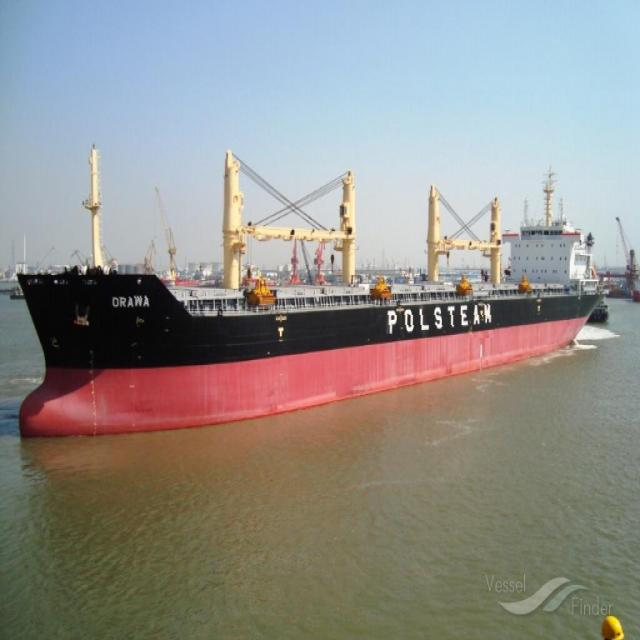OCR: (381, 300, 495, 338), (99, 292, 158, 312)
